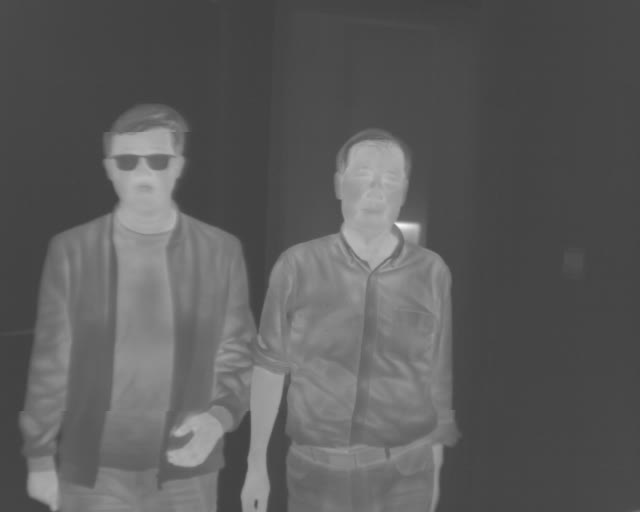face: (101, 101, 189, 216), (331, 126, 412, 240)
